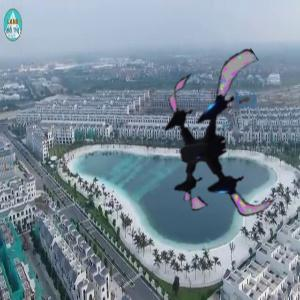drone: (139, 67, 300, 229)
